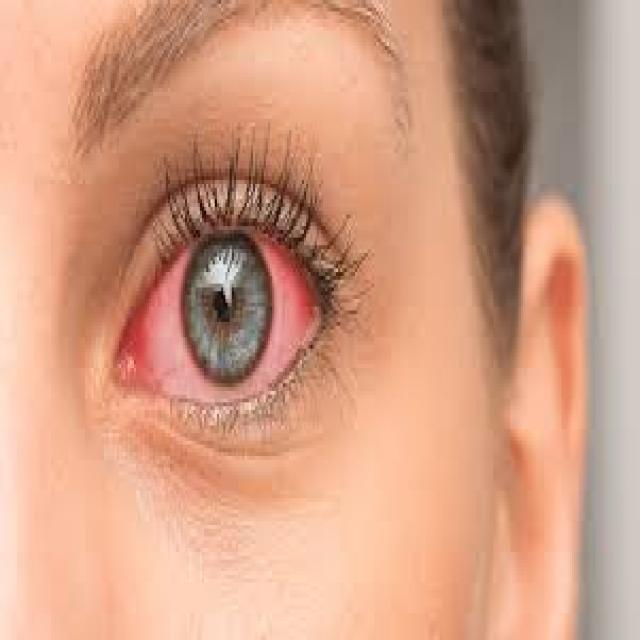Conjunctivitis: (104, 247, 328, 402)
